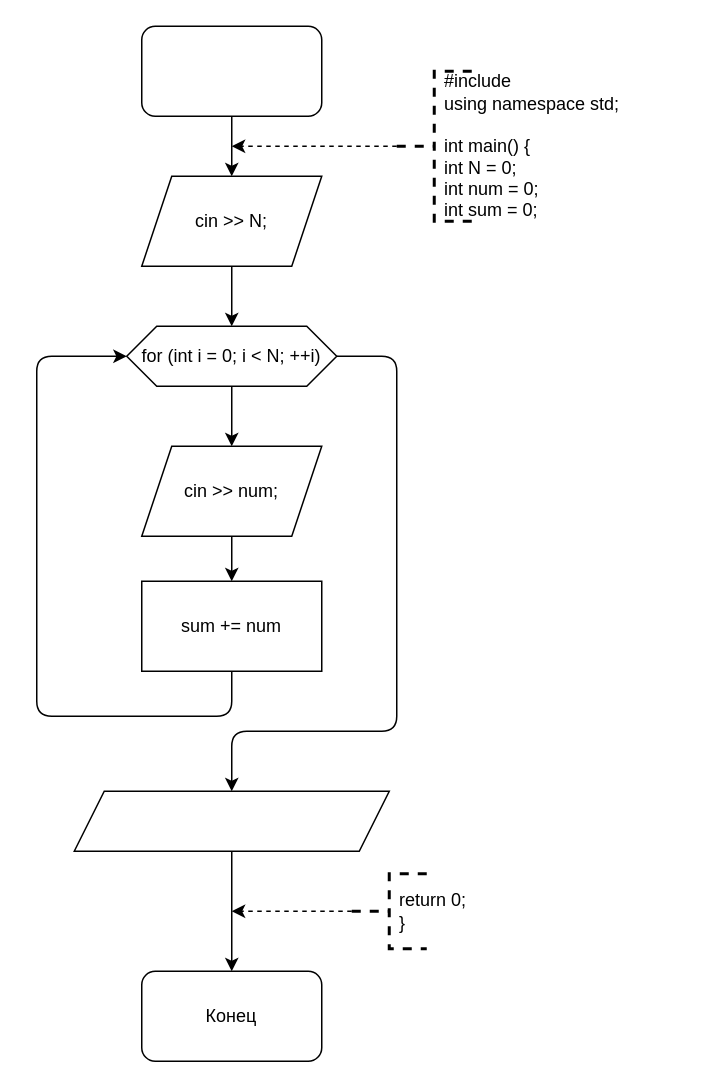
Some shapes in this 708 by 1088 pixel diagram are drawn without their labels. Each missing label, with the centre of its shape:
cout << "Sum : " << sum << endl;: the point at 231,820
Начало: the point at 231,70
